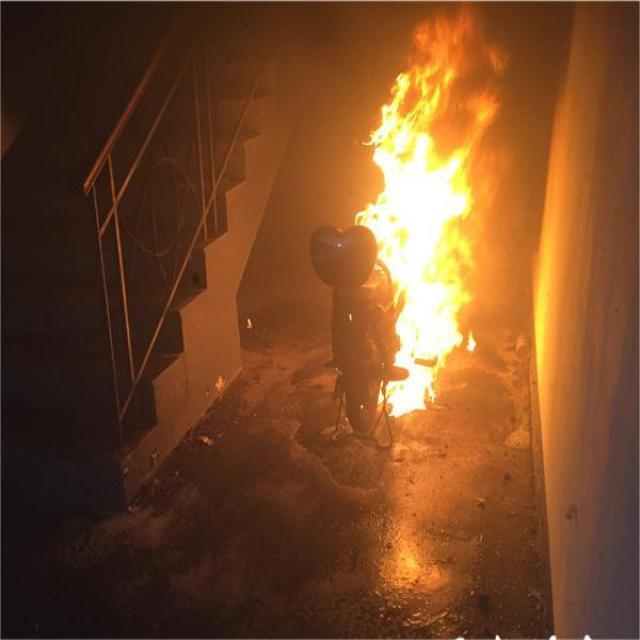Fire: (362, 80, 482, 418)
